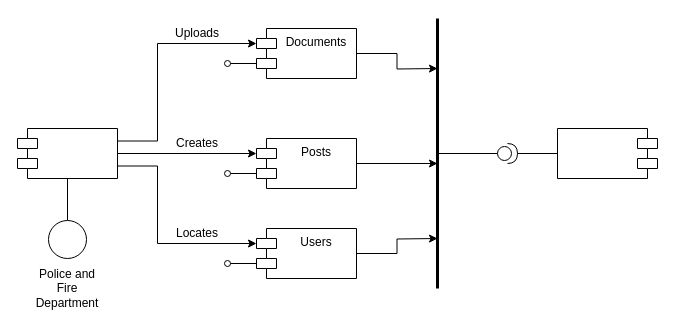
Image size: 675x327. Some labels were removed from this diagram. The shapes that lost their labels are listed below. From the top down, each one's centre as x and y in pixels, then its label:
(67,153): Rapid Reach
(607,153): Database
